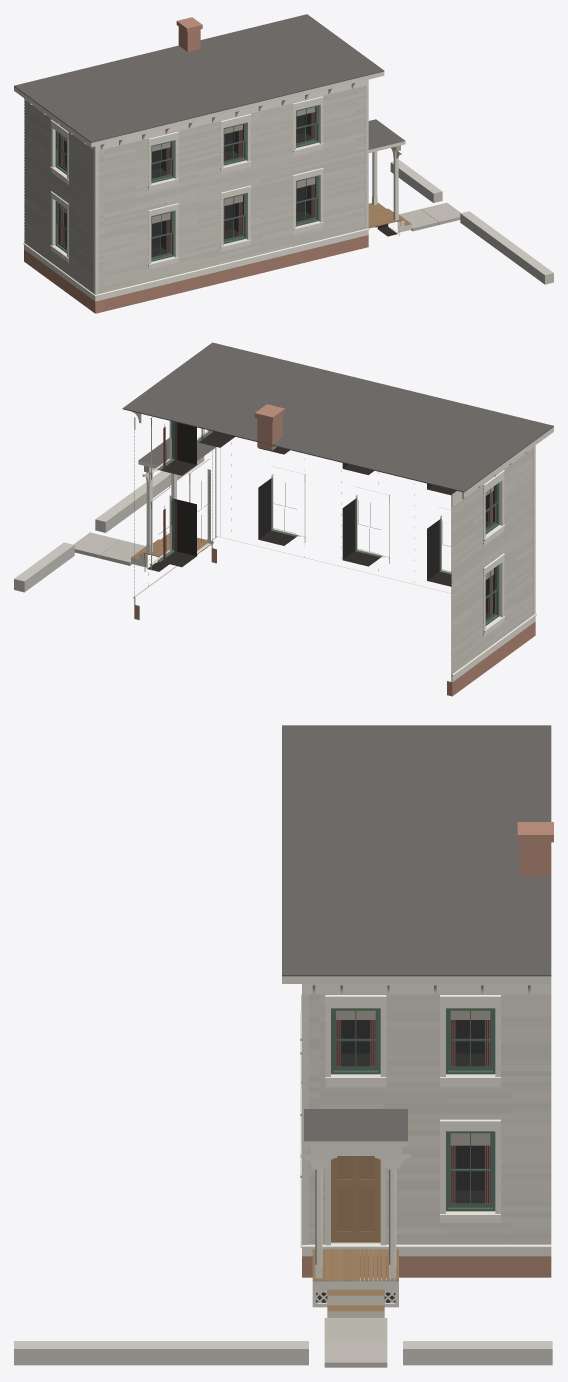
File: house_1609_prairie__as_mapped_1904.glb
The picture shows the model from 3 angles, top to bottom: view 1: azimuth 30°, elevation 25°; view 2: azimuth 150°, elevation 25°; view 3: azimuth 270°, elevation 25°; orthographic projection. The views are drawn at different scales.
Parts seen in each view (by area): view 1: house_1609_prairie__as_mapped_1904; view 2: house_1609_prairie__as_mapped_1904; view 3: house_1609_prairie__as_mapped_1904.
Boxes of the visible parts, <box> form: house_1609_prairie__as_mapped_1904: <box>14,14,553,313</box>; house_1609_prairie__as_mapped_1904: <box>14,342,553,696</box>; house_1609_prairie__as_mapped_1904: <box>14,725,553,1367</box>.
Size of the model in its own units: 14.93 by 7.54 by 10.36.
